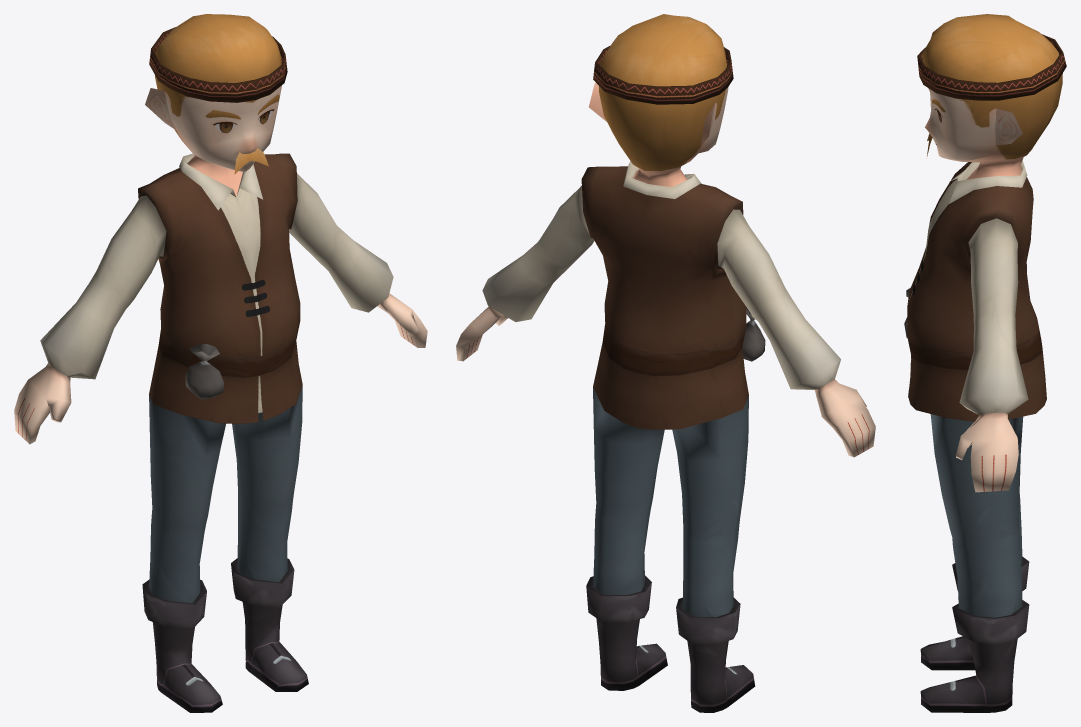
3 views of the same model, side by side, from view 1: azimuth 30°, elevation 25°; view 2: azimuth 150°, elevation 25°; view 3: azimuth 270°, elevation 25° (orthographic).
Visible parts, largest first — view 1: Peasant Orin, Headband, Pouch, Shirt Collar; view 2: Peasant Orin, Headband, Shirt Collar, Pouch; view 3: Peasant Orin, Headband, Shirt Collar.
Part boxes in pixels (<box>): Peasant Orin: <box>14,14,427,712</box>; Headband: <box>149,27,287,102</box>; Pouch: <box>185,344,223,399</box>; Shirt Collar: <box>179,153,262,210</box>; Peasant Orin: <box>456,14,875,712</box>; Headband: <box>593,45,733,104</box>; Shirt Collar: <box>623,161,701,198</box>; Pouch: <box>742,307,765,361</box>; Peasant Orin: <box>907,14,1062,712</box>; Headband: <box>917,34,1066,100</box>; Shirt Collar: <box>949,160,1027,203</box>.
Size of the model in its own units: 112 by 177 by 39.36.
